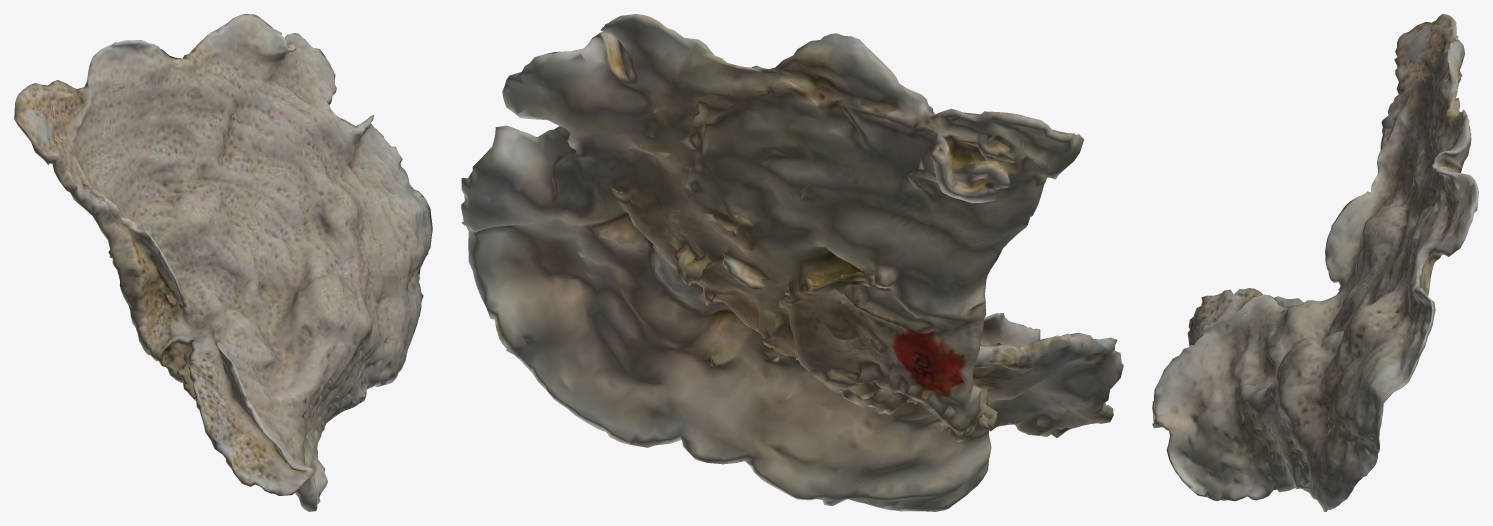
File: agaricia.glb
The picture shows the model from 3 angles, left to right: view 1: azimuth 30°, elevation 25°; view 2: azimuth 150°, elevation 25°; view 3: azimuth 270°, elevation 25°; orthographic projection. The views are drawn at different scales.
Visible parts, largest first — view 1: mesh_0; view 2: mesh_0; view 3: mesh_0.
Part boxes in pixels (x1=…): mesh_0: x1=14, y1=14, x2=432, y2=511; mesh_0: x1=461, y1=14, x2=1123, y2=511; mesh_0: x1=1152, y1=14, x2=1478, y2=511.
Bounding box in the file's own units: 0.1162 × 0.1116 × 0.0793.
Materials: 1 (1 with a texture image).
